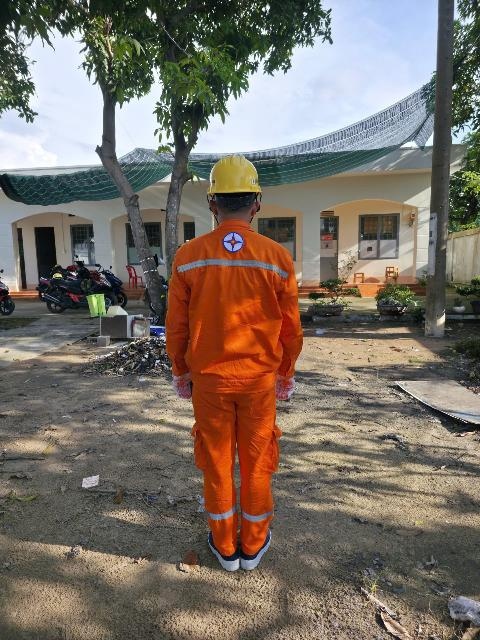gloves: (161, 366, 205, 398), (270, 367, 300, 409)
helmet: (196, 147, 279, 202)
shoes: (235, 519, 275, 569), (206, 519, 241, 570)
